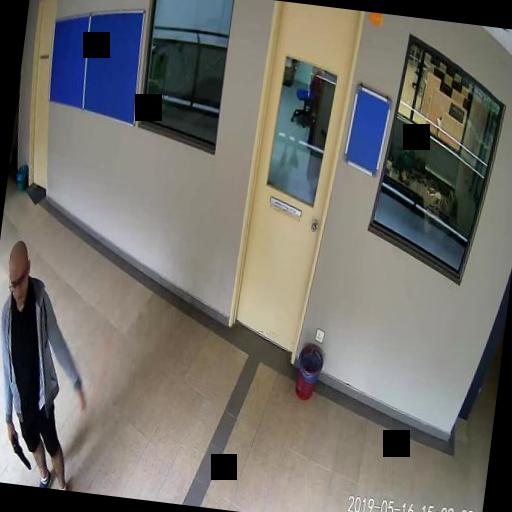Handgun: (4, 426, 34, 468)
